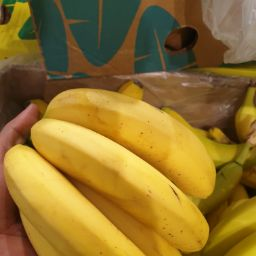Bannana: (21, 75, 232, 256), (131, 77, 256, 256), (3, 92, 90, 256)
